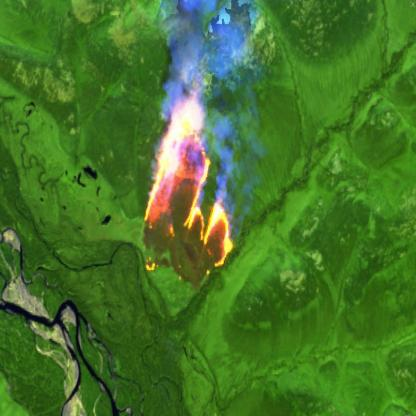fire: (139, 93, 236, 291)
